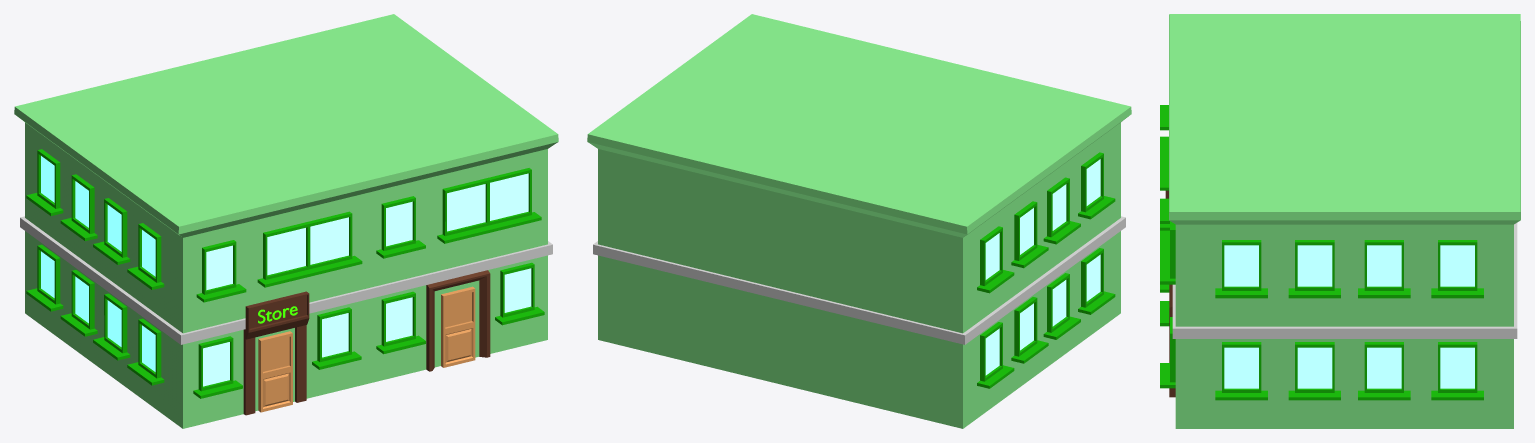
File: building2.fbx
3 renders of one model, left to right at view 1: azimuth 30°, elevation 25°; view 2: azimuth 150°, elevation 25°; view 3: azimuth 270°, elevation 25°, orthographic. The views are drawn at different scales.
Parts seen in each view (by area): view 1: Cube.009; view 2: Cube.009; view 3: Cube.009.
Boxes of the visible parts, x1,y1,x2,y2 form: Cube.009: (14, 14, 558, 428); Cube.009: (587, 14, 1131, 428); Cube.009: (1160, 14, 1520, 428).
Bounding box in the file's own units: 855 × 640 × 432.
